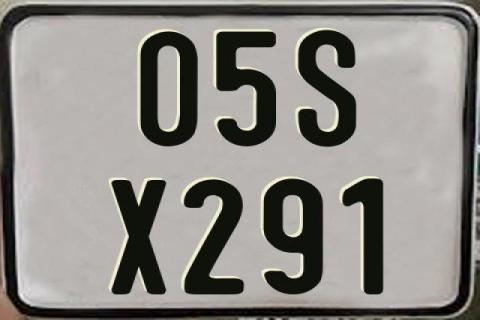0: (213, 30, 278, 148), (137, 29, 201, 145), (181, 180, 243, 298), (263, 177, 325, 293), (341, 176, 382, 294)
S: (298, 27, 358, 145)
X: (110, 178, 168, 292)
